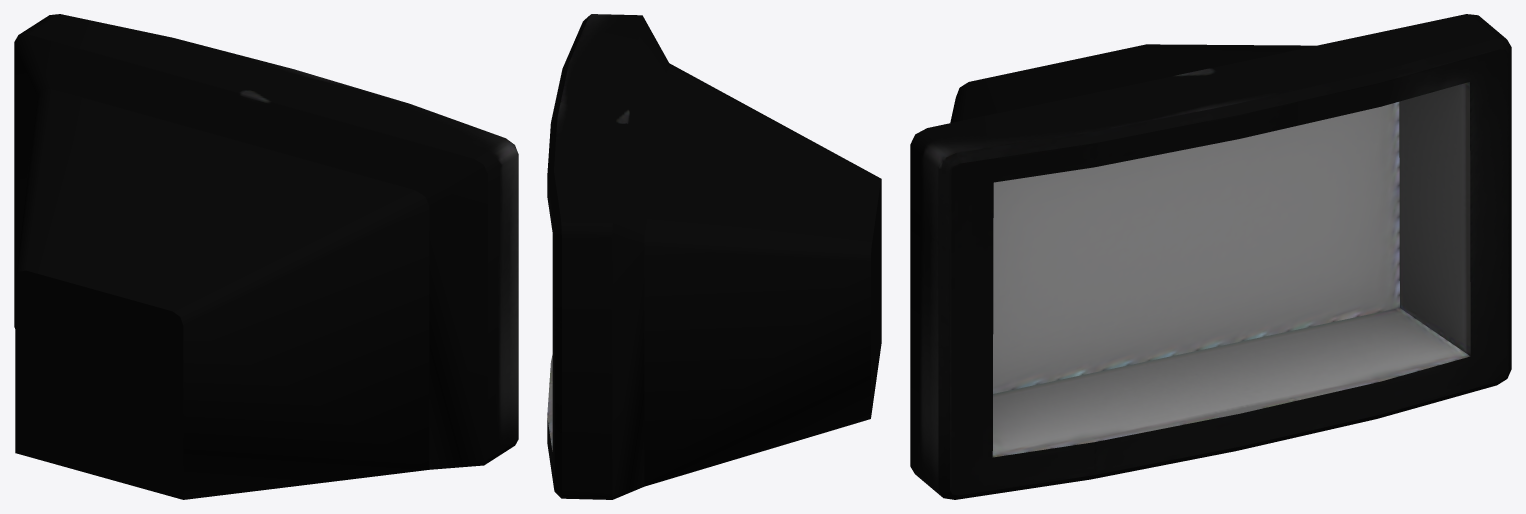
The picture shows the model from 3 angles, left to right: view 1: azimuth 30°, elevation 25°; view 2: azimuth 150°, elevation 25°; view 3: azimuth 270°, elevation 25°; orthographic projection. The views are drawn at different scales.
Visible parts, largest first — view 1: tv 4; view 2: tv 4; view 3: tv 4.
Part boxes in pixels (<box>): tv 4: <box>14,14,518,499</box>; tv 4: <box>547,14,881,499</box>; tv 4: <box>910,14,1511,499</box>.
Bounding box in the file's own units: 260 × 293 × 187.
1 material, 1 textured.
